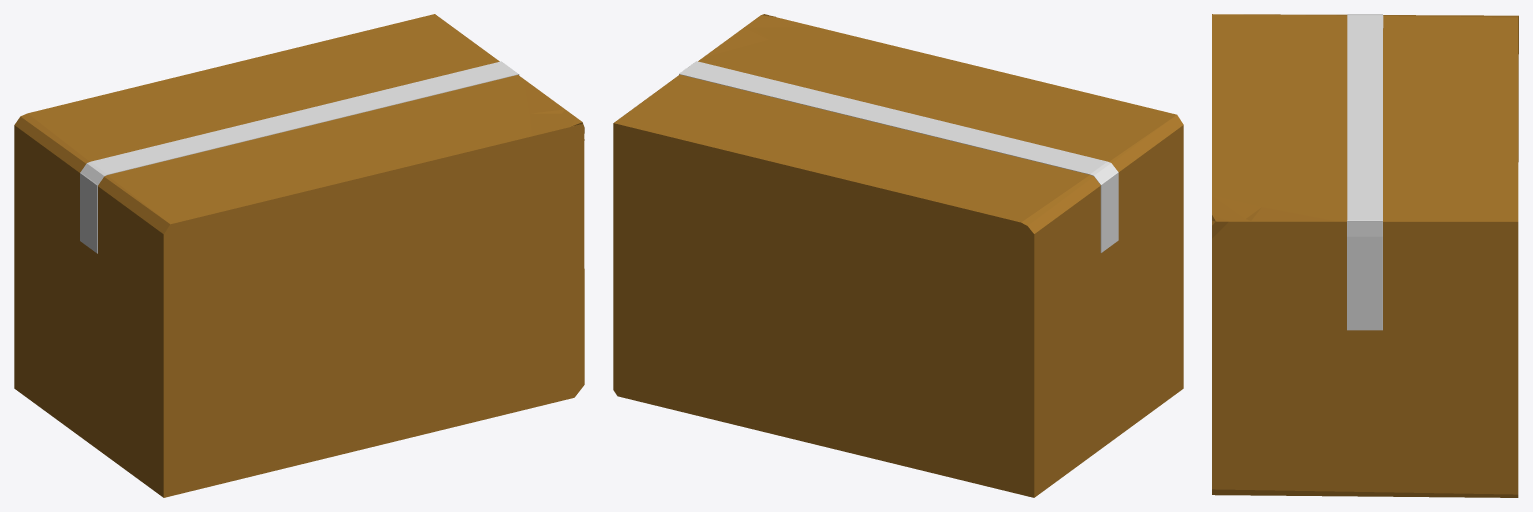
Rendered from Package_V1.fbx.
3 views of the same model, side by side, from view 1: azimuth 30°, elevation 25°; view 2: azimuth 150°, elevation 25°; view 3: azimuth 270°, elevation 25° (orthographic). The views are drawn at different scales.
Parts seen in each view (by area): view 1: pakketje, tape; view 2: pakketje, tape; view 3: pakketje, tape.
Part boxes in pixels (left/top/right/bottom): pakketje: left=14, top=14, right=584, bottom=497; tape: left=80, top=61, right=519, bottom=253; pakketje: left=613, top=14, right=1183, bottom=497; tape: left=679, top=61, right=1118, bottom=252; pakketje: left=1212, top=14, right=1518, bottom=497; tape: left=1347, top=14, right=1383, bottom=330.
Bounding box in the file's own units: 0.4034 × 0.2473 × 0.2486.
